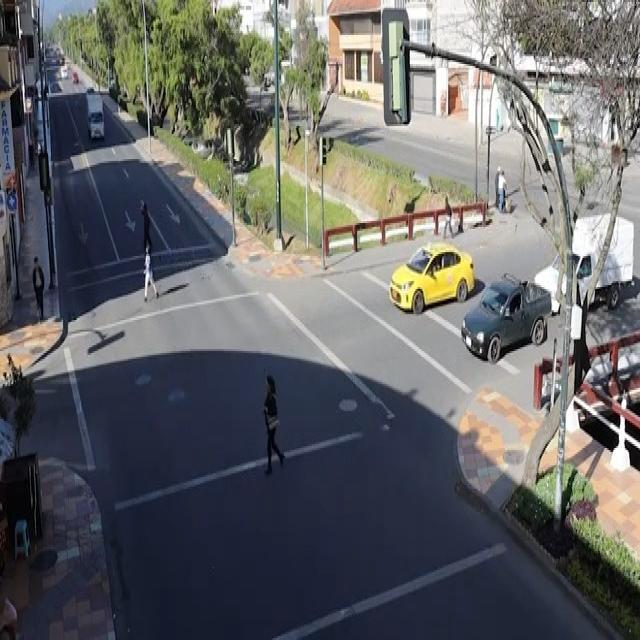CMT: (460, 277, 550, 363)
